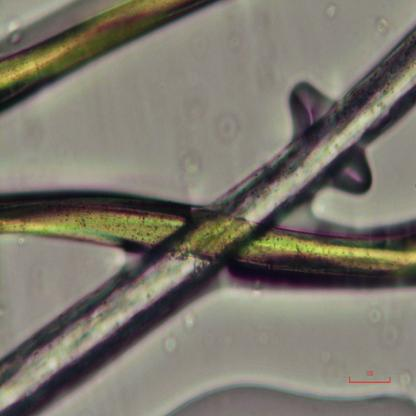Air bubble: (160, 371, 416, 414), (287, 79, 323, 132), (335, 152, 374, 193)
Background material: (170, 122, 206, 206), (363, 296, 402, 346), (217, 110, 239, 145), (158, 329, 180, 356), (318, 0, 338, 25), (183, 314, 201, 334), (374, 14, 390, 35)
Microfibre: (0, 27, 416, 415), (0, 186, 416, 287), (0, 0, 211, 108)
